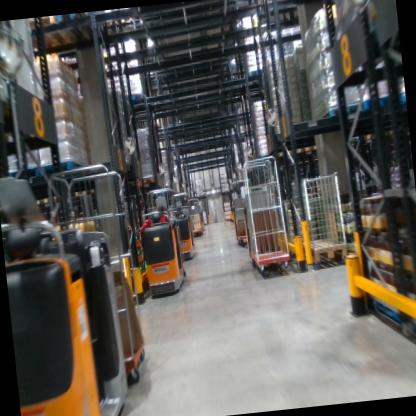pallet: (23, 15, 72, 57), (56, 13, 106, 51), (304, 228, 349, 269), (39, 154, 96, 184), (361, 87, 398, 129), (314, 100, 363, 130), (112, 10, 144, 42), (124, 84, 149, 121), (1, 164, 41, 186), (255, 0, 297, 14), (71, 183, 101, 202), (34, 191, 63, 210), (295, 136, 325, 154), (272, 145, 297, 161), (134, 173, 159, 188)
pallet_truck: (0, 168, 147, 416), (125, 178, 199, 311), (236, 150, 296, 285), (226, 185, 256, 261), (166, 198, 196, 262), (181, 197, 208, 234)
